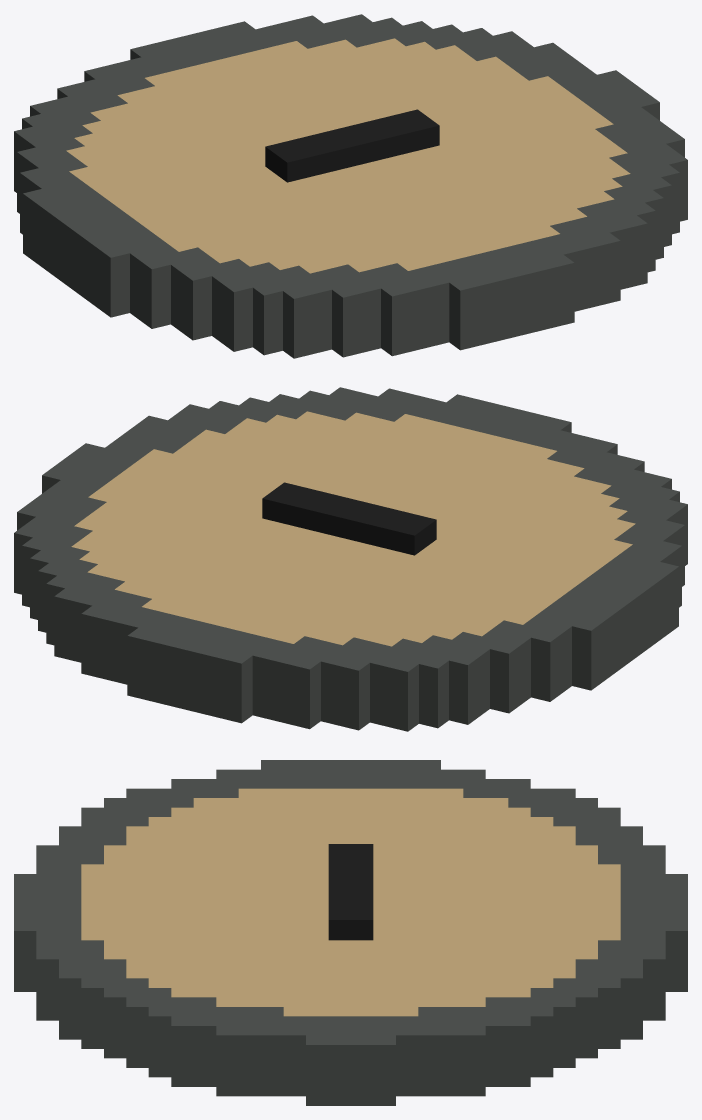
Rendered from light_tactical_vehicle_roof_hatch.glb.
3 views of the same model, one above another, from view 1: azimuth 30°, elevation 25°; view 2: azimuth 150°, elevation 25°; view 3: azimuth 270°, elevation 25° (orthographic). The views are drawn at different scales.
Visible parts, largest first — view 1: body:compound; view 2: body:compound; view 3: body:compound.
Part boxes in pixels (x1,y1,x2,y2): body:compound: (14,14,687,358); body:compound: (14,387,687,731); body:compound: (14,760,687,1105).
Bounding box in the file's own units: 0.9375 × 0.125 × 0.9375.
